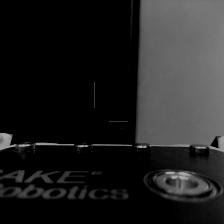Door Handle: (94, 82, 127, 108)
Lock: (110, 120, 127, 136)
